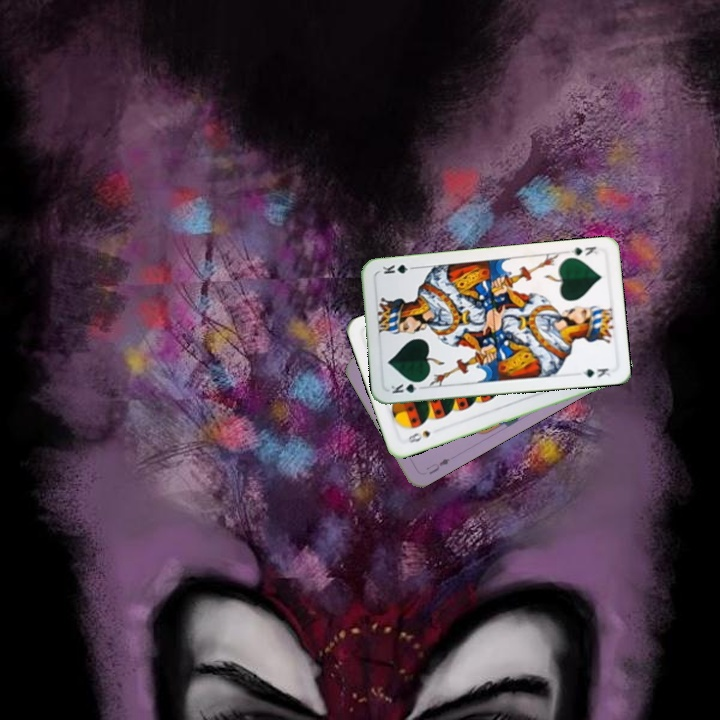EU: (422, 454, 452, 477)
GK: (387, 377, 426, 396), (567, 242, 600, 258)
S8: (400, 426, 433, 447)
